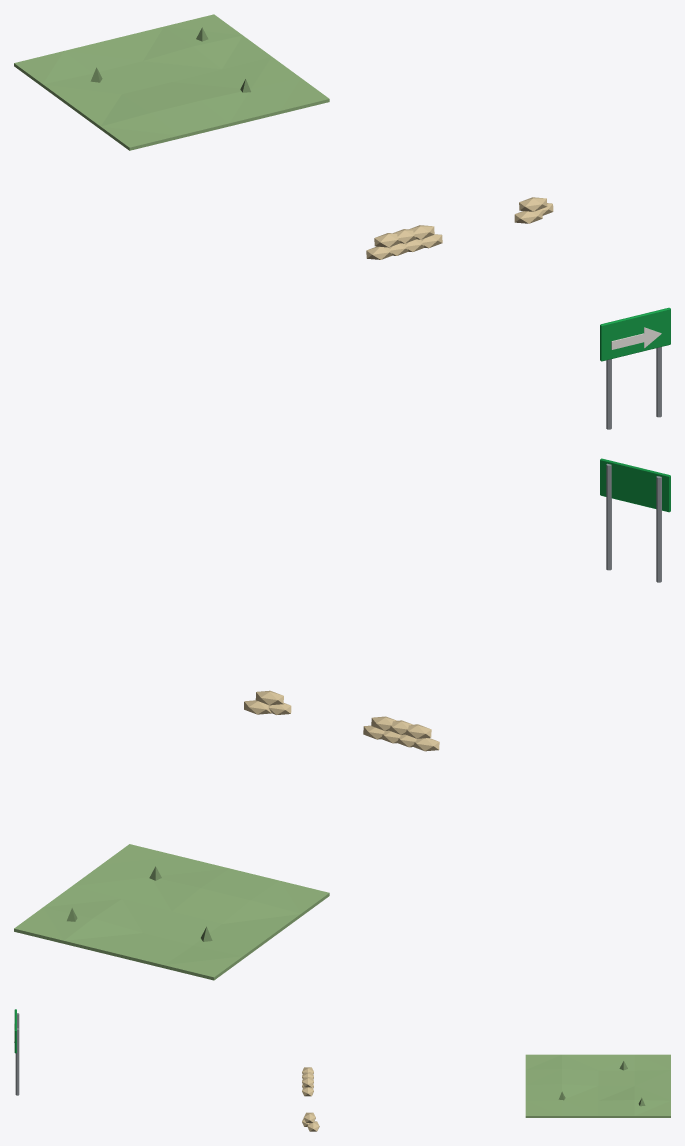
File: kit_siaga_v001.glb
The picture shows the model from 3 angles, top to bottom: view 1: azimuth 30°, elevation 25°; view 2: azimuth 150°, elevation 25°; view 3: azimuth 270°, elevation 25°; orthographic projection. The views are drawn at different scales.
Visible parts, largest first — view 1: lantai_siaga, Papan_Evakuasi, Karung_Pasir_Dinding, Karung_Pasir_Tumpuk; view 2: lantai_siaga, Papan_Evakuasi, Karung_Pasir_Dinding, Karung_Pasir_Tumpuk; view 3: lantai_siaga, Papan_Evakuasi, Karung_Pasir_Dinding, Karung_Pasir_Tumpuk.
Part boxes in pixels (x1,y1,x2,y2): lantai_siaga: (14, 14, 329, 150); Papan_Evakuasi: (600, 307, 670, 429); Karung_Pasir_Dinding: (366, 225, 442, 259); Karung_Pasir_Tumpuk: (514, 197, 553, 223); lantai_siaga: (14, 844, 329, 980); Papan_Evakuasi: (600, 458, 670, 582); Karung_Pasir_Dinding: (363, 716, 439, 751); Karung_Pasir_Tumpuk: (244, 690, 291, 714); lantai_siaga: (525, 1054, 670, 1117); Papan_Evakuasi: (14, 1009, 19, 1095); Karung_Pasir_Dinding: (302, 1067, 313, 1096); Karung_Pasir_Tumpuk: (302, 1112, 319, 1131).
Bounding box in the file's own units: 5.09 × 2.05 × 18.1.
